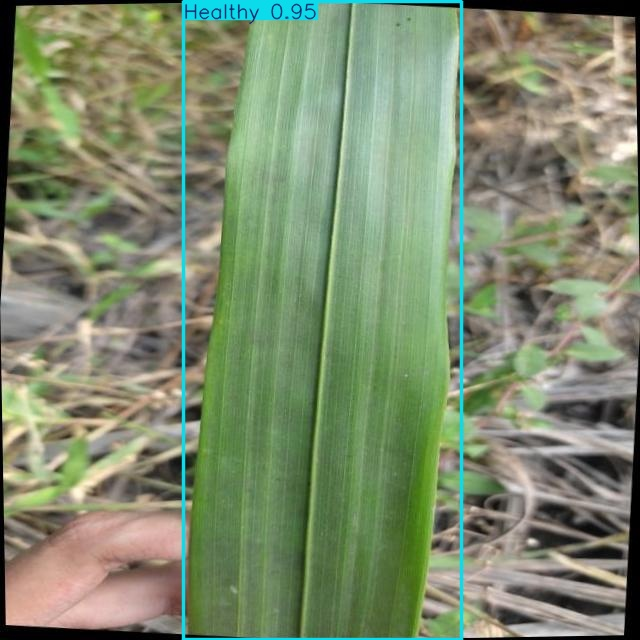Healthy: (184, 2, 461, 639)
